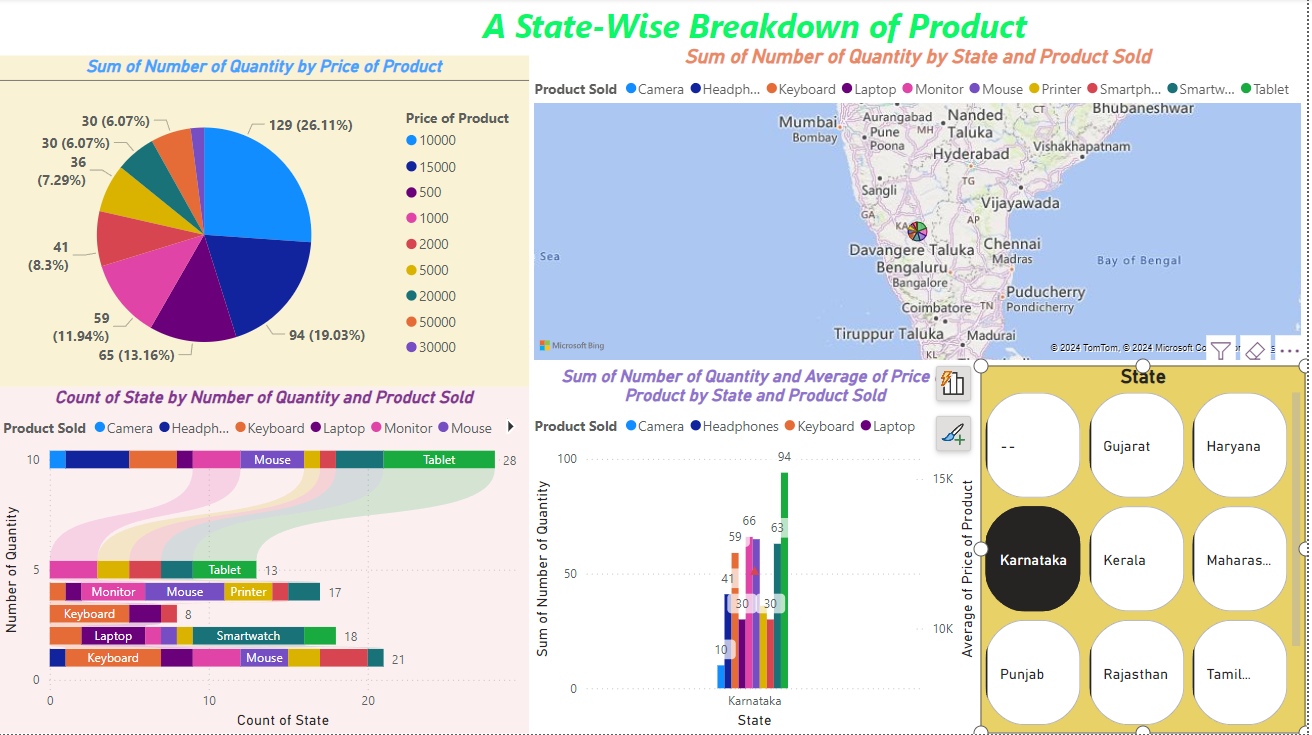

The page's visual inventory and layout, read from the dashboard file:
{"tool":"powerbi","page":{"name":"Page 1","canvas":[1280,720],"ordinal":0},"visuals":[{"type":"textbox","box":[460.1,0,560.7,55.9],"z":0},{"type":"barChart","fields":{"Y":["CountNonNull(State sales Prediction.State)"],"Category":["State sales Prediction.Number of Quantity"],"Series":["State sales Prediction.Product Sold"]},"box":[0,380,519.7,339],"z":1000},{"type":"pieChart","fields":{"Category":["State sales Prediction.Price of Product"],"Y":["Sum(State sales Prediction.Number of Quantity)"]},"box":[0,55.9,519.7,324.1],"z":2000},{"type":"lineClusteredColumnComboChart","fields":{"Category":["State sales Prediction.State"],"Y2":["Avg(State sales Prediction.Price of Product)"],"Series":["State sales Prediction.Product Sold"],"Y":["Sum(State sales Prediction.Number of Quantity)"]},"box":[519.7,359.5,441.5,359.5],"z":3000},{"type":"map","fields":{"Category":["State sales Prediction.State"],"Size":["Sum(State sales Prediction.Number of Quantity)"],"Series":["State sales Prediction.Product Sold"]},"box":[519.7,46.6,760,312.9],"z":4000},{"type":"advancedSlicerVisual","fields":{"Values":["State sales Prediction.State"]},"box":[961.1,359.5,318.5,359.5],"z":5000}]}

Visuals, with their boxes in screenshot pixels (x1, y1, x2, y2), scaled from the page's 1280x720 canvas onto the 1312x735 screenshot:
textbox: bbox=[472, 0, 1046, 57]
barChart - CountNonNull(State sales Prediction.State) x State sales Prediction.Number of Quantity: bbox=[0, 388, 533, 734]
pieChart - State sales Prediction.Price of Product x Sum(State sales Prediction.Number of Quantity): bbox=[0, 57, 533, 388]
lineClusteredColumnComboChart - State sales Prediction.State x Avg(State sales Prediction.Price of Product): bbox=[533, 367, 985, 734]
map - State sales Prediction.State x Sum(State sales Prediction.Number of Quantity): bbox=[533, 48, 1311, 367]
advancedSlicerVisual - State sales Prediction.State: bbox=[985, 367, 1311, 734]
